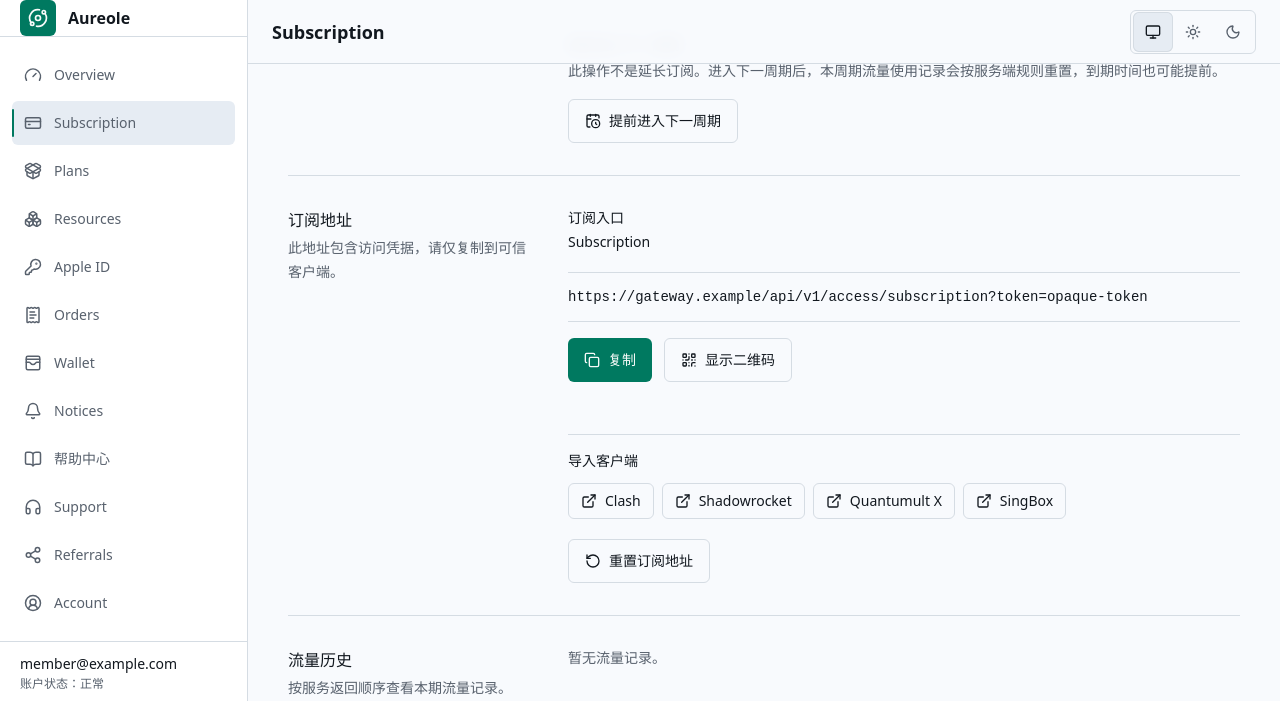
Scenario: Subscription page › shows a recoverable local error when clipboard access fails
(page scrolled)
Step 1. Click the button "复制" → point(610, 360), box [568,338,652,382]
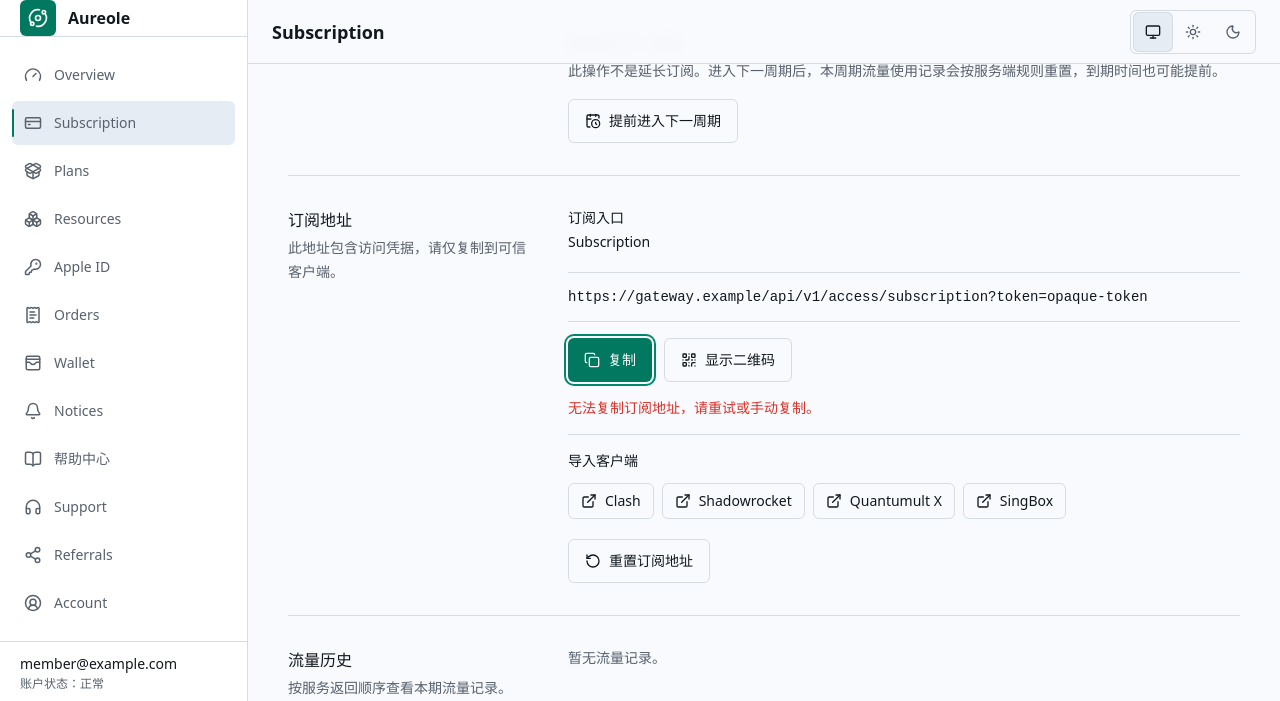
Expected: the text "https://gateway.example/api/v1/access/subscription?token=opaque-token" is shown, [568,285,1240,309]
Expected: the text "无法复制订阅地址，请重试或手动复制。" is shown, [568,398,820,417]
